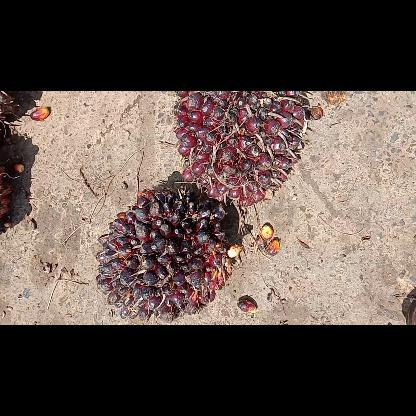Kurang masak: (92, 180, 246, 324), (169, 91, 313, 211)
